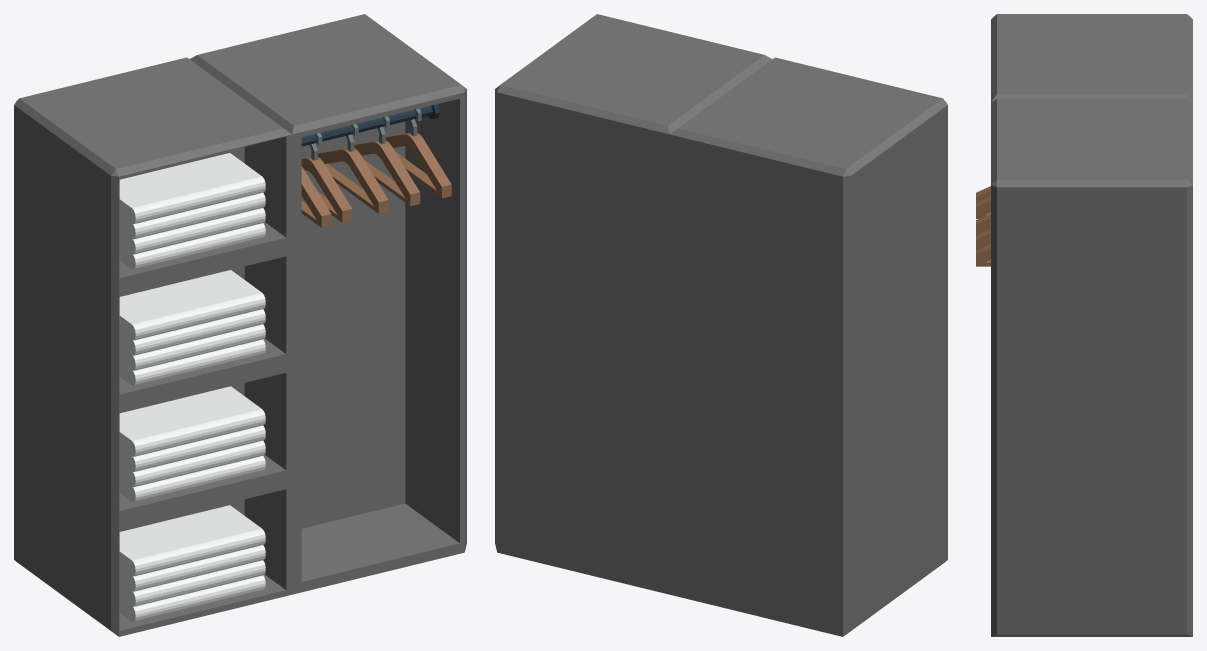
File: Shower-Cabinet.fbx
3 renders of one model, left to right at view 1: azimuth 30°, elevation 25°; view 2: azimuth 150°, elevation 25°; view 3: azimuth 270°, elevation 25°, orthographic.
Parts seen in each view (by area): view 1: Shower-Cabinet, Towel-13, Towel-1, Towel-5, Towel-9, Towel-8, Towel-15, Towel-12, Towel-4, Towel-3, Towel-16, Towel-2 (+10 smaller); view 2: Shower-Cabinet; view 3: Shower-Cabinet.
Boxes of the visible parts, x1=… form: Shower-Cabinet: x1=14, y1=14, x2=466, y2=636; Towel-13: x1=119, y1=505, x2=265, y2=576; Towel-1: x1=119, y1=153, x2=265, y2=224; Towel-5: x1=119, y1=270, x2=265, y2=340; Towel-9: x1=119, y1=386, x2=265, y2=456; Towel-8: x1=119, y1=339, x2=265, y2=385; Towel-15: x1=119, y1=560, x2=265, y2=606; Towel-12: x1=119, y1=456, x2=265, y2=502; Towel-4: x1=119, y1=223, x2=265, y2=269; Towel-3: x1=119, y1=208, x2=265, y2=254; Towel-16: x1=119, y1=575, x2=265, y2=621; Towel-2: x1=119, y1=192, x2=265, y2=239; Shower-Cabinet: x1=495, y1=14, x2=947, y2=636; Shower-Cabinet: x1=991, y1=14, x2=1192, y2=636.
Bounding box in the file's own units: 2.4 × 3 × 1.29.
